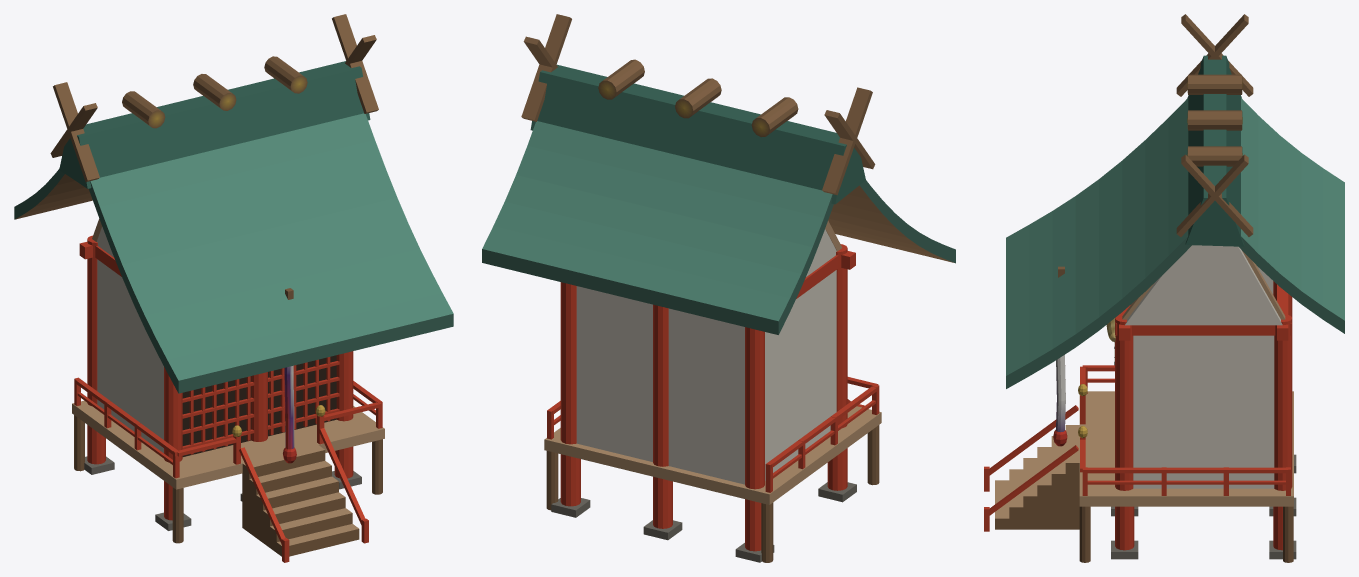
Rendered from Shrine_Hall.fbx.
The picture shows the model from 3 angles, left to right: view 1: azimuth 30°, elevation 25°; view 2: azimuth 150°, elevation 25°; view 3: azimuth 270°, elevation 25°; orthographic projection. The views are drawn at different scales.
Parts seen in each view (by area): view 1: Shrine_Hall; view 2: Shrine_Hall; view 3: Shrine_Hall.
Part boxes in pixels (bbox=[...]): Shrine_Hall: bbox=[14, 14, 453, 562]; Shrine_Hall: bbox=[482, 14, 955, 562]; Shrine_Hall: bbox=[984, 14, 1344, 562].
Size of the model in its own units: 30.7 by 41.36 by 31.95.
